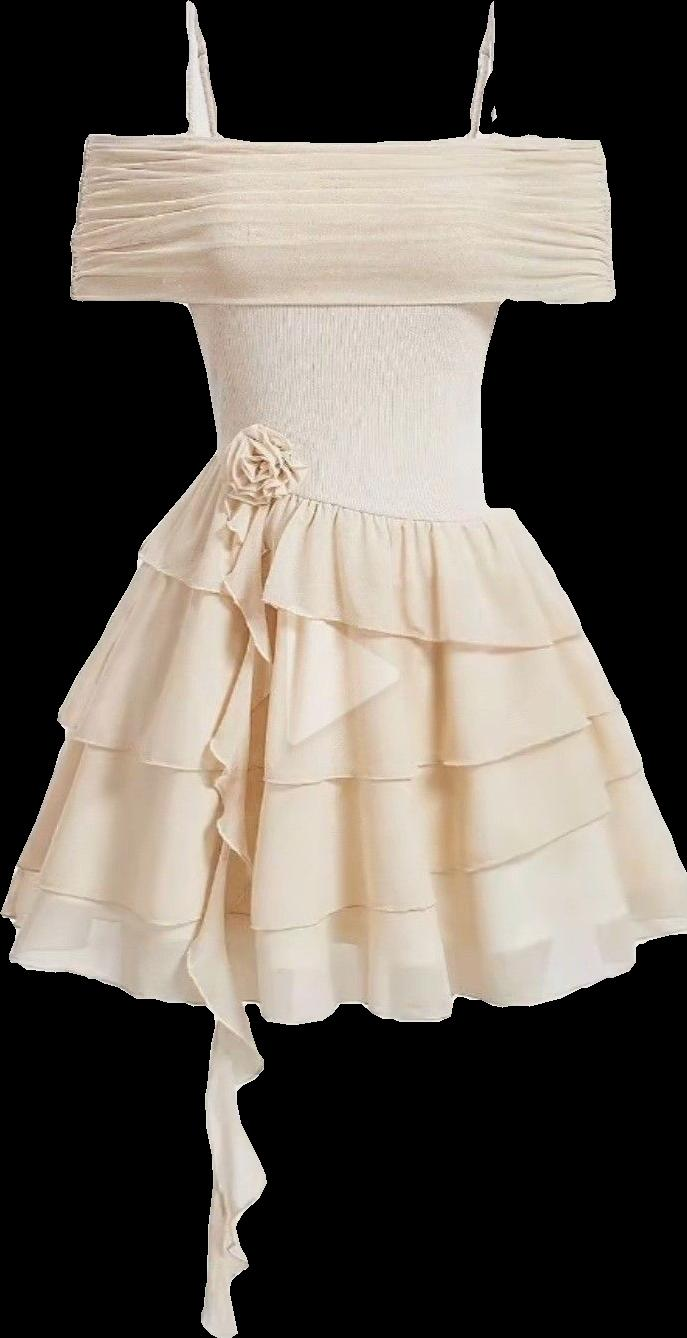Bodice: (70, 0, 615, 528)
Hemline: (12, 764, 645, 937), (0, 904, 686, 1030), (43, 699, 620, 785), (123, 543, 585, 649)
Neckline: (184, 0, 502, 156), (83, 130, 602, 158)
Skirt: (1, 459, 686, 1024)
Waistline: (206, 447, 497, 531), (61, 282, 618, 307)
